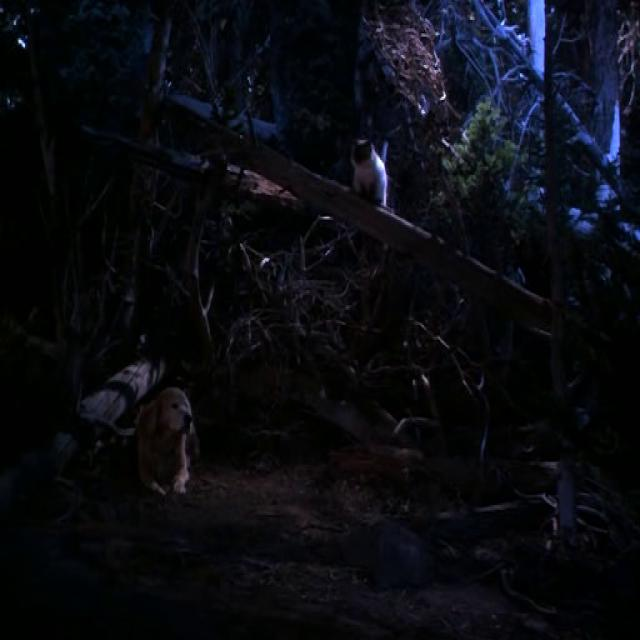dog: (92, 291, 219, 526)
